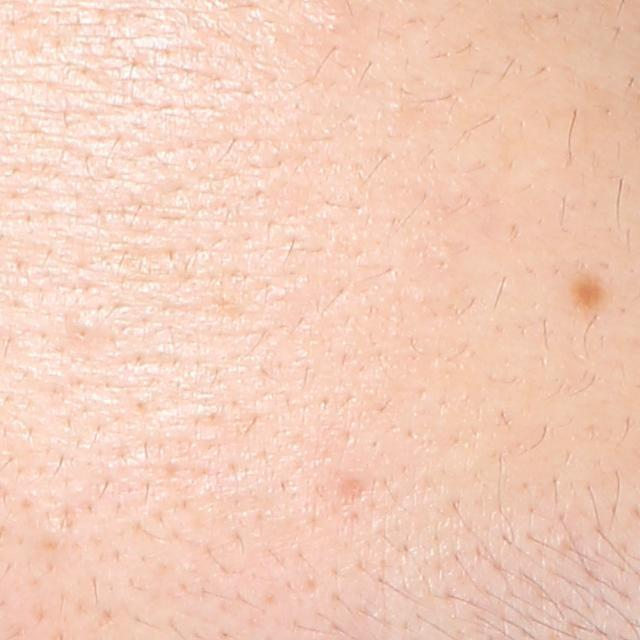atrophic_scar: (336, 469, 379, 522)
comedo: (65, 314, 104, 350)
nevus: (570, 271, 609, 314)
